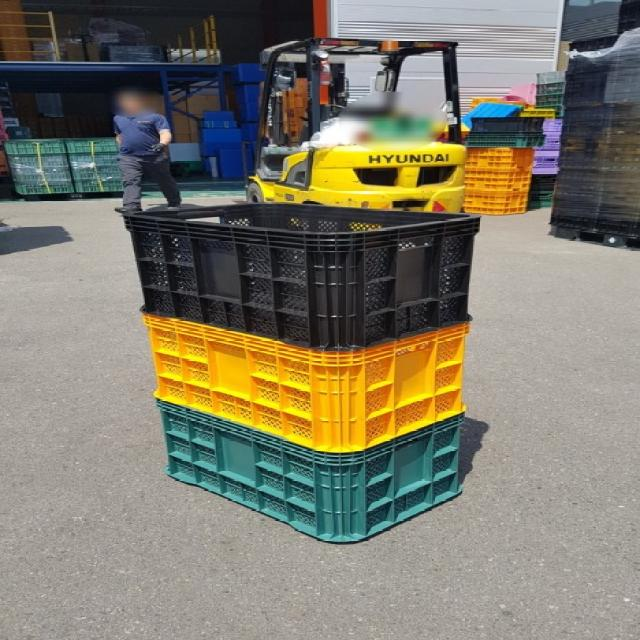basket: (118, 195, 480, 358), (139, 314, 469, 456), (151, 401, 464, 549)
